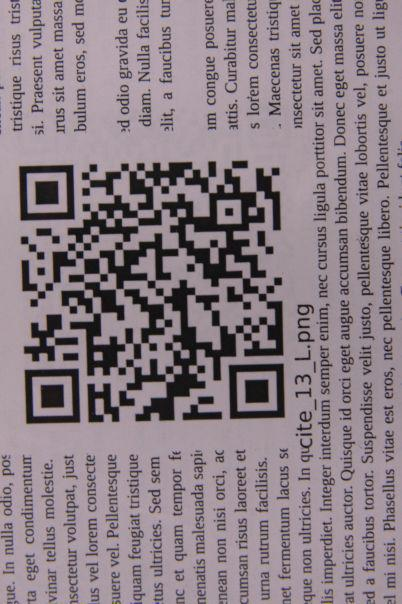Finder pattern: (223, 357, 291, 424), (16, 364, 85, 429), (14, 159, 81, 225)
